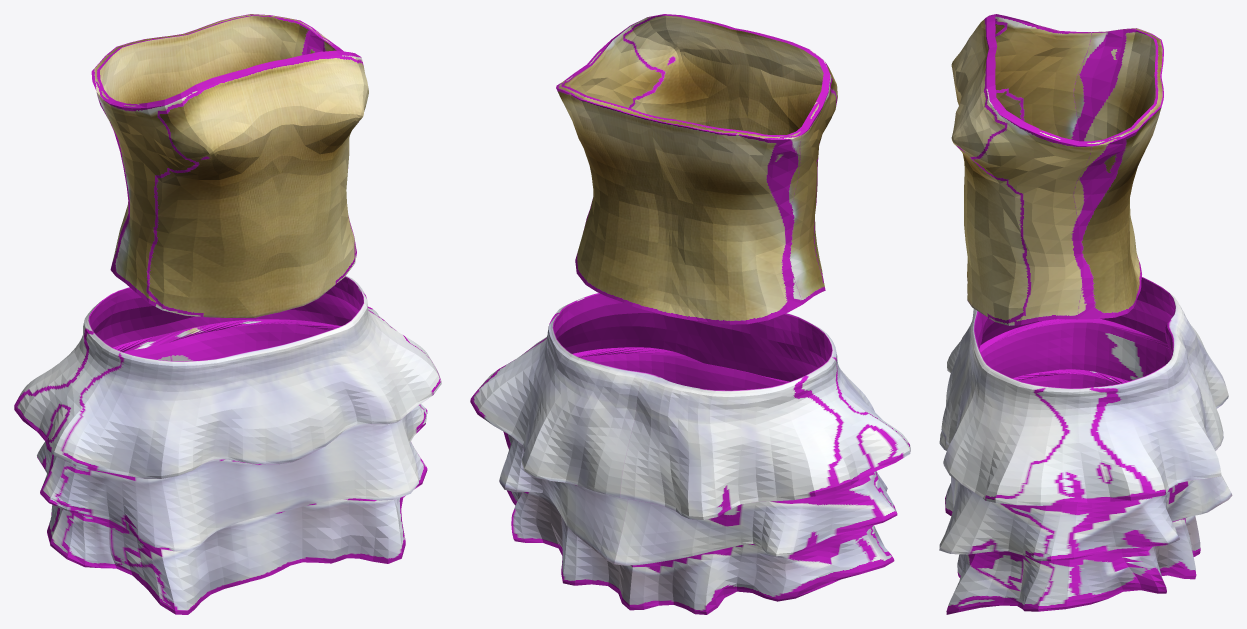
The picture shows the model from 3 angles, left to right: view 1: azimuth 30°, elevation 25°; view 2: azimuth 150°, elevation 25°; view 3: azimuth 270°, elevation 25°; orthographic projection.
Size of the model in its own units: 0.6993 by 0.8898 by 0.4564.
1 material, 1 textured.
